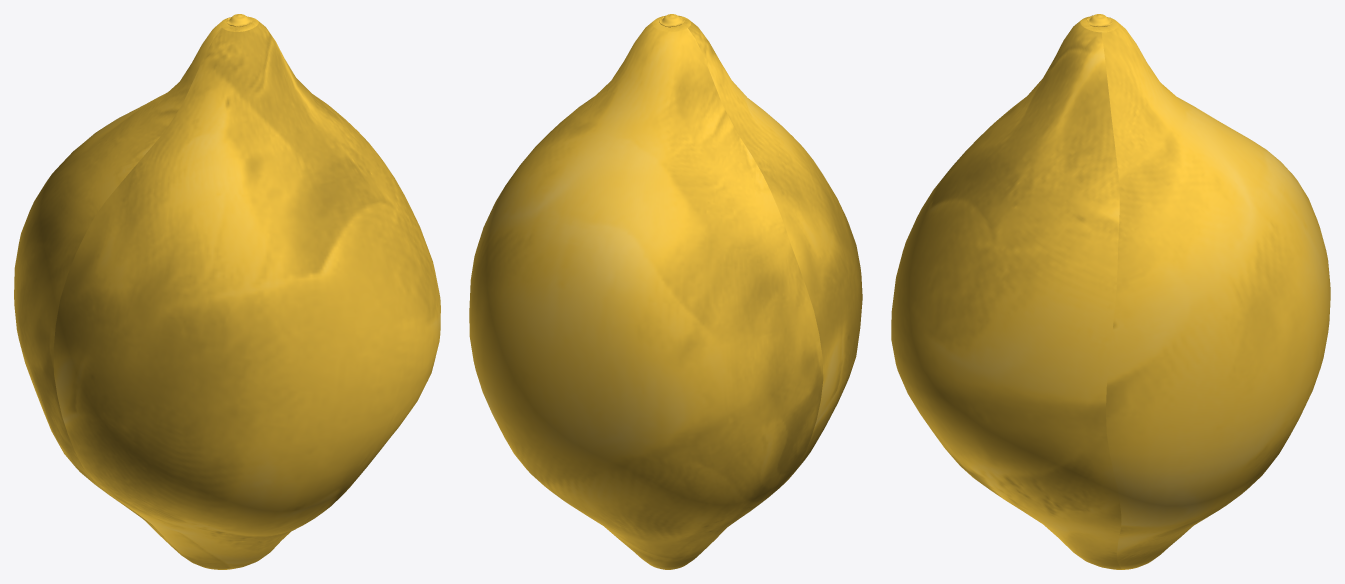
The model's file is mCitron3outline.FBX.
3 renders of one model, left to right at view 1: azimuth 30°, elevation 25°; view 2: azimuth 150°, elevation 25°; view 3: azimuth 270°, elevation 25°, orthographic. The views are drawn at different scales.
Visible parts, largest first — view 1: Citron_Positif_02_OUTLINE; view 2: Citron_Positif_02_OUTLINE; view 3: Citron_Positif_02_OUTLINE.
Part boxes in pixels (left/top/right/bottom): Citron_Positif_02_OUTLINE: left=14, top=14, right=440, bottom=569; Citron_Positif_02_OUTLINE: left=469, top=14, right=862, bottom=569; Citron_Positif_02_OUTLINE: left=891, top=14, right=1330, bottom=569.
Bounding box in the file's own units: 1.48 × 2.33 × 1.67.
